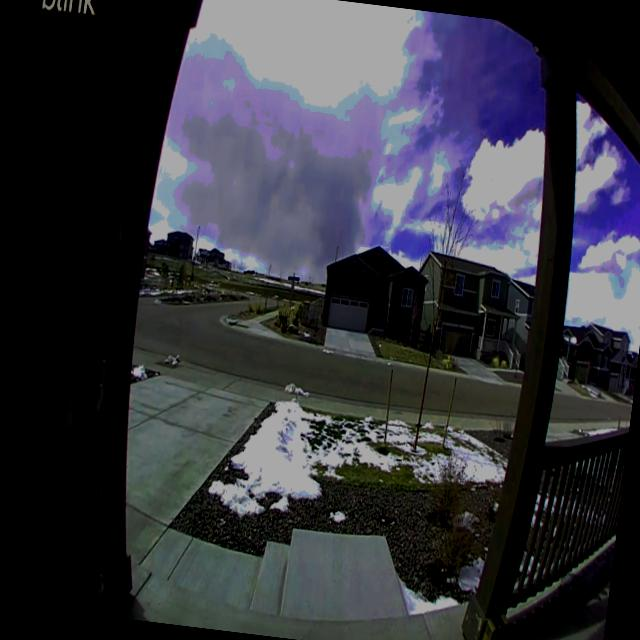Box: (476, 607, 512, 640)
